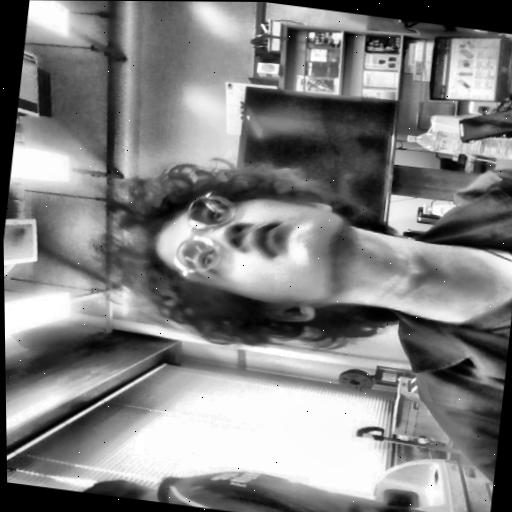Daifuku: (110, 153, 411, 366)
Not Daifuku: (65, 467, 179, 504)
